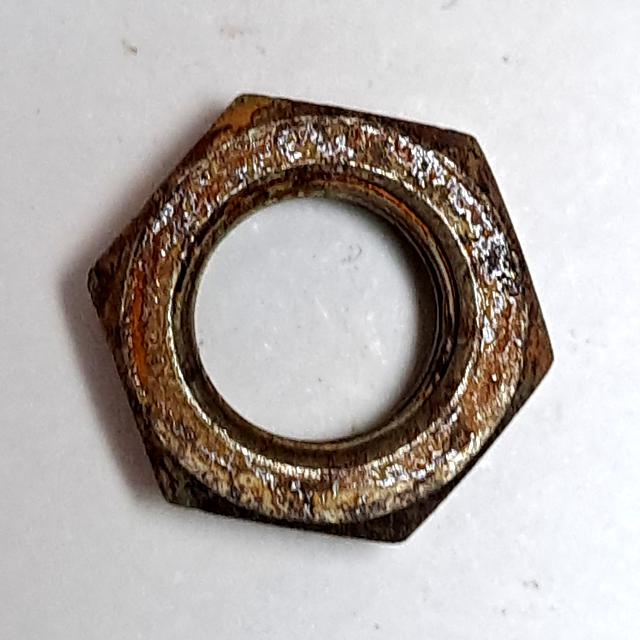Rust: (76, 79, 572, 562)
